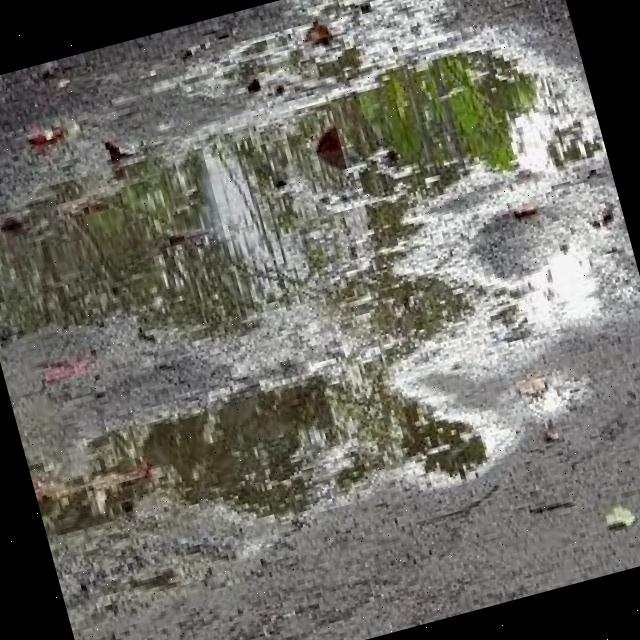stagnation: (0, 24, 568, 372), (25, 362, 511, 544)
